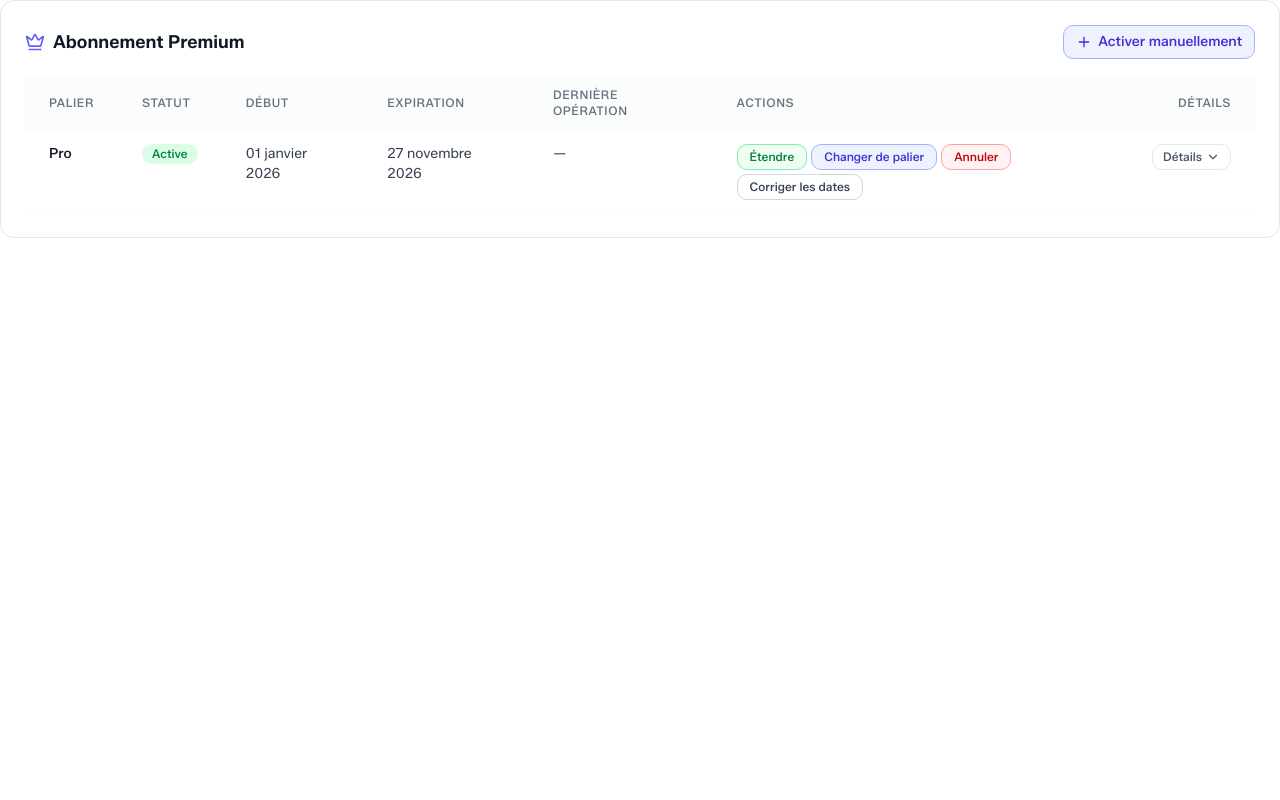
Test: AdminFaceSubscriptionSection — FP-2.10 tier selector + change-tier flow › change-tier modal › surfaces NOT_TIER_CHANGEABLE conflict and keeps modal open
The image size is (1280, 800).
Click the button with test id "change-tier-button" at (874,157), box [811,144,937,170]
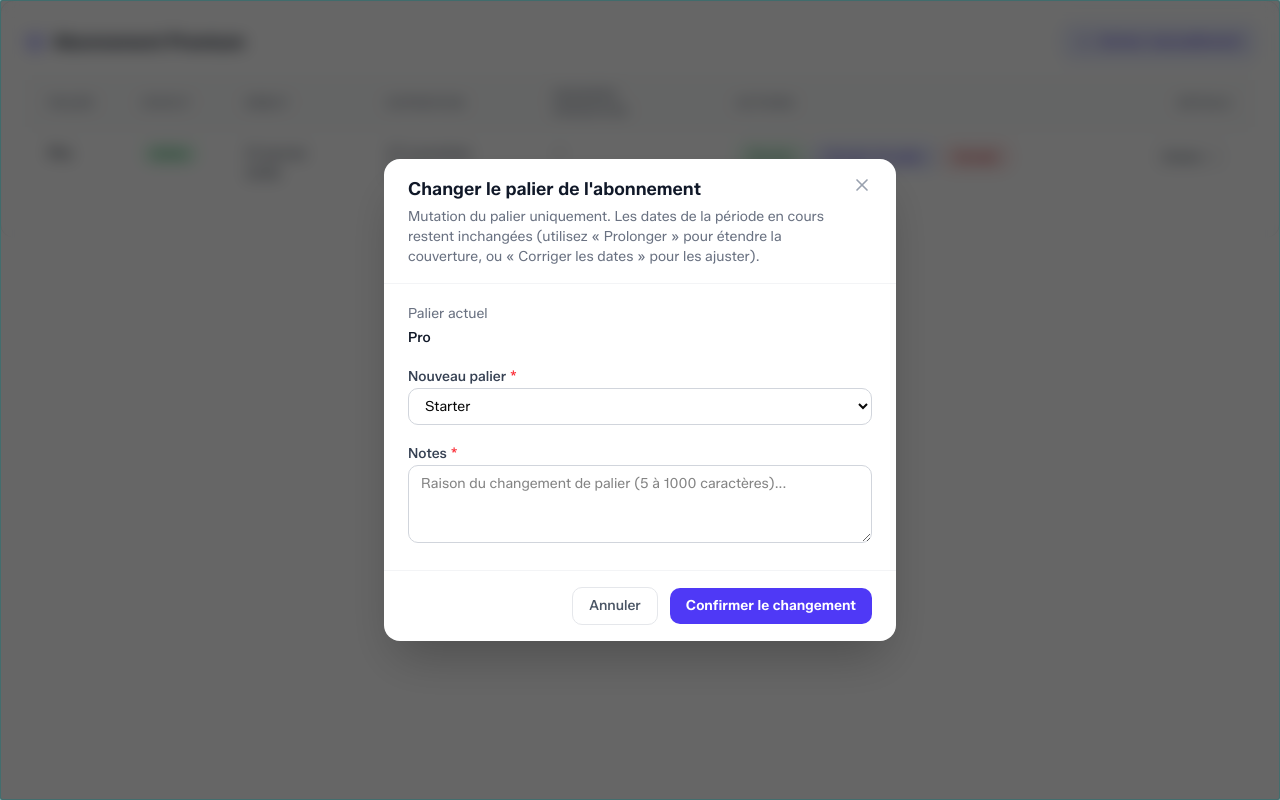
Type "Tentative changement" into the text box with test id "change-tier-notes" at (640,504), box [408,465,872,543]
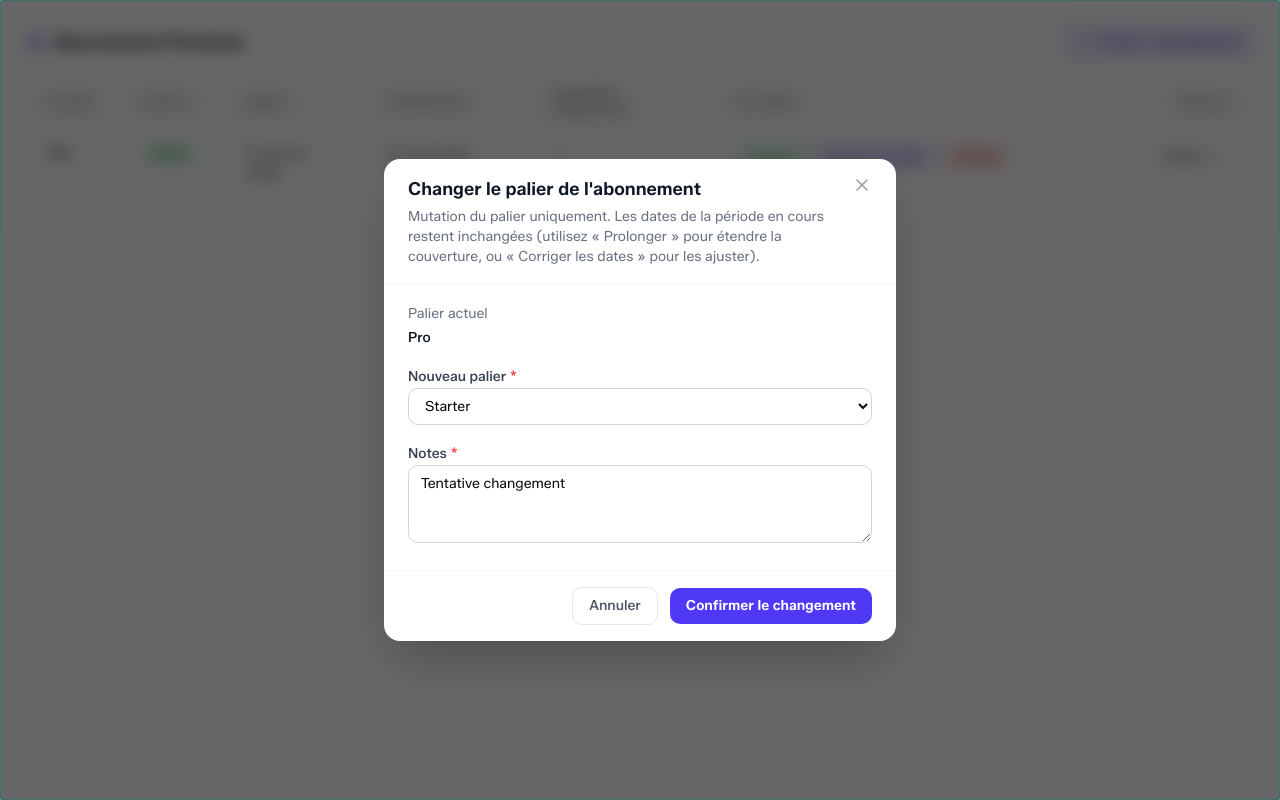
Click the button with test id "change-tier-submit" at (771,606), box [670,588,872,624]
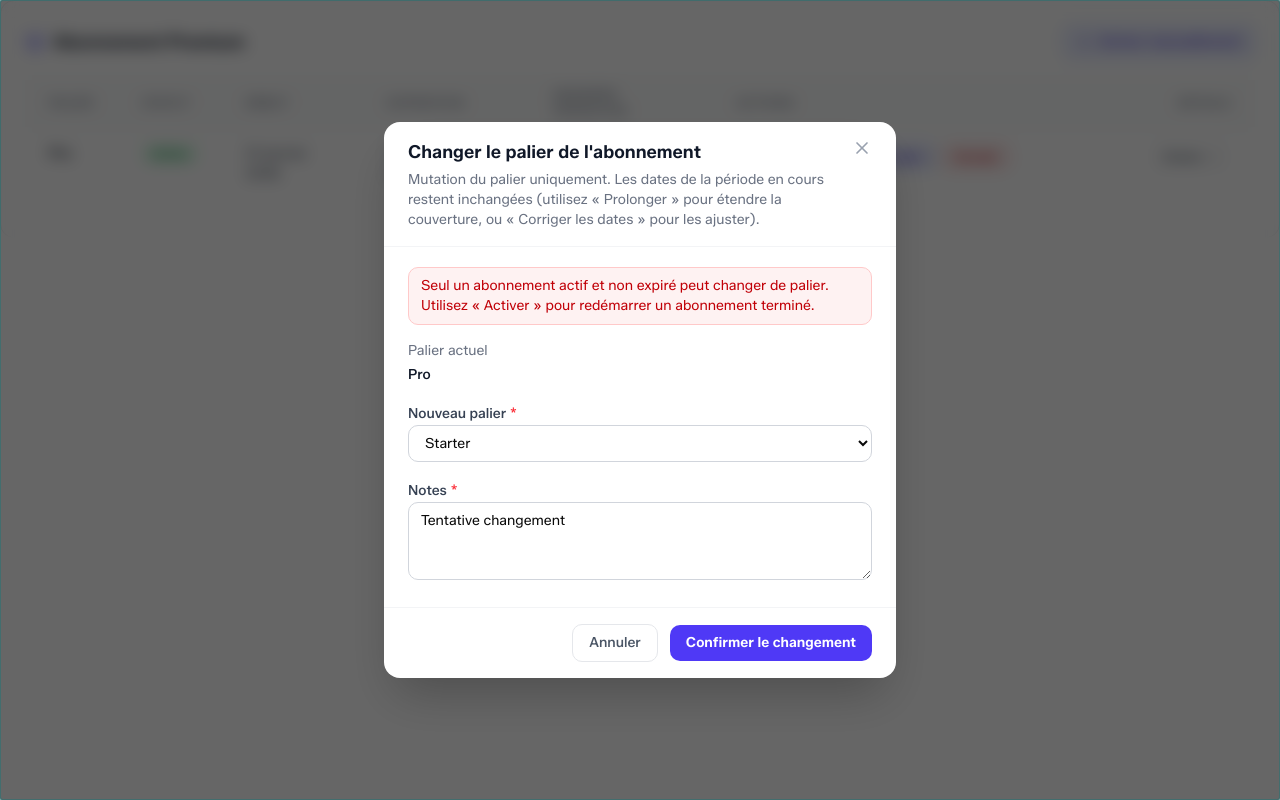
Check: the dialog with test id "admin-face-subscription-change-tier-modal" is shown
Check: the text with test id "admin-face-subscription-change-tier-error" is shown, box [408,267,872,325]
Check: the text with test id "admin-face-subscription-change-tier-error" shows "peut changer de palier", box [421,277,829,314]
